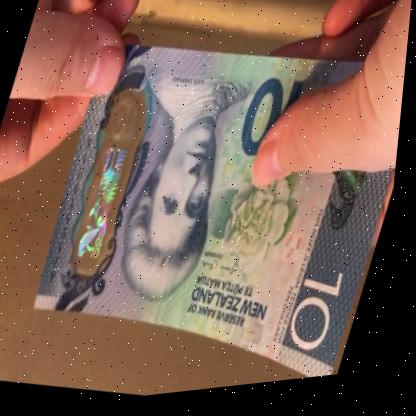10B: (71, 101, 152, 272)
